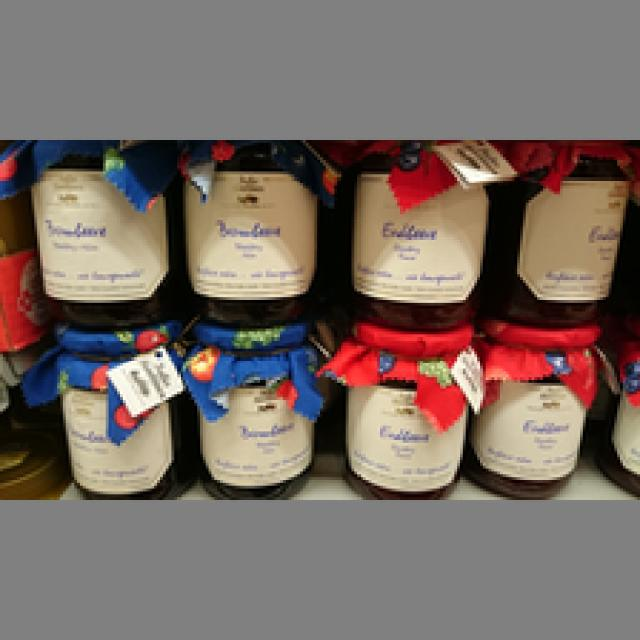groceries: (23, 140, 171, 326), (171, 140, 323, 320), (332, 317, 477, 494), (463, 317, 600, 497), (488, 140, 626, 317), (40, 323, 180, 497), (352, 143, 488, 320), (183, 317, 317, 494)
